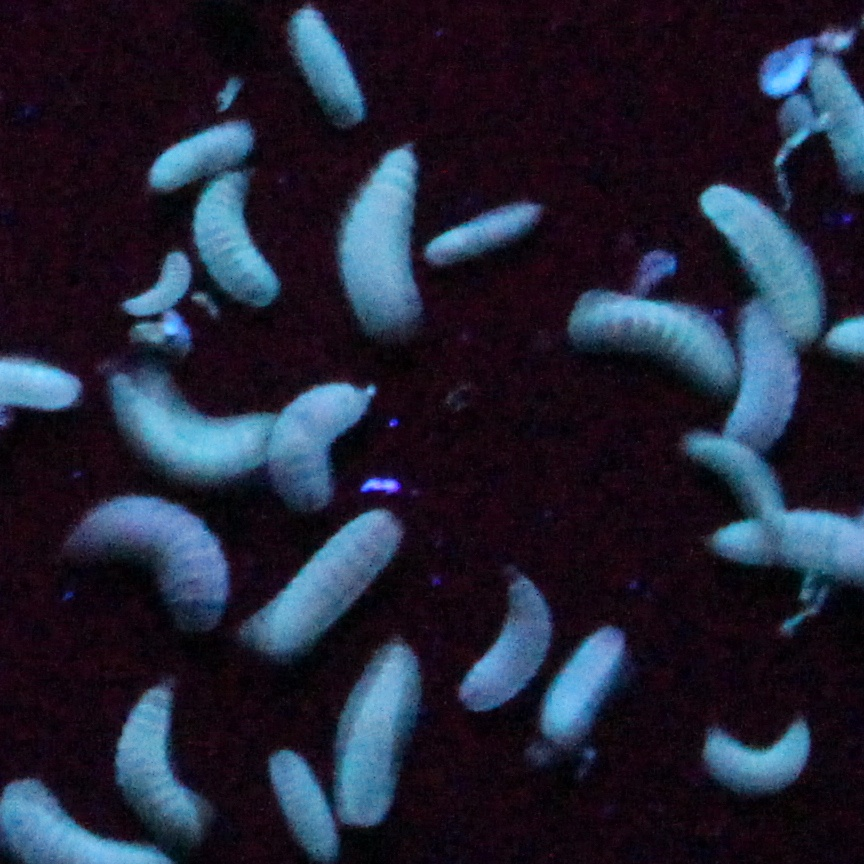larve: (103, 363, 263, 481), (253, 522, 399, 649), (698, 185, 816, 342), (561, 278, 726, 390), (94, 502, 227, 630), (113, 680, 215, 845), (346, 149, 427, 336), (274, 374, 382, 514), (457, 567, 554, 711), (674, 429, 790, 547), (195, 170, 285, 311), (343, 661, 416, 821), (541, 623, 633, 743), (736, 296, 798, 462), (702, 711, 816, 799), (289, 0, 365, 125), (261, 747, 336, 860), (150, 112, 251, 187), (433, 204, 539, 264), (129, 247, 189, 321)
